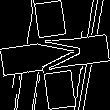M_W: (27, 28, 83, 82)
